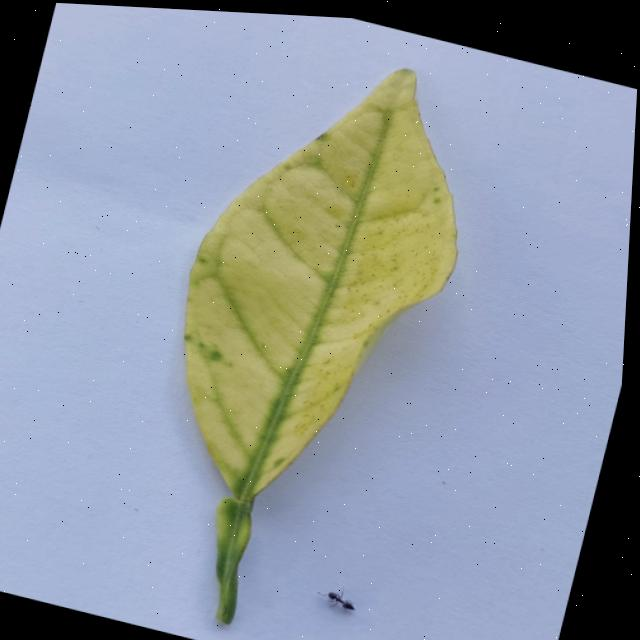greening: (185, 69, 457, 624)
